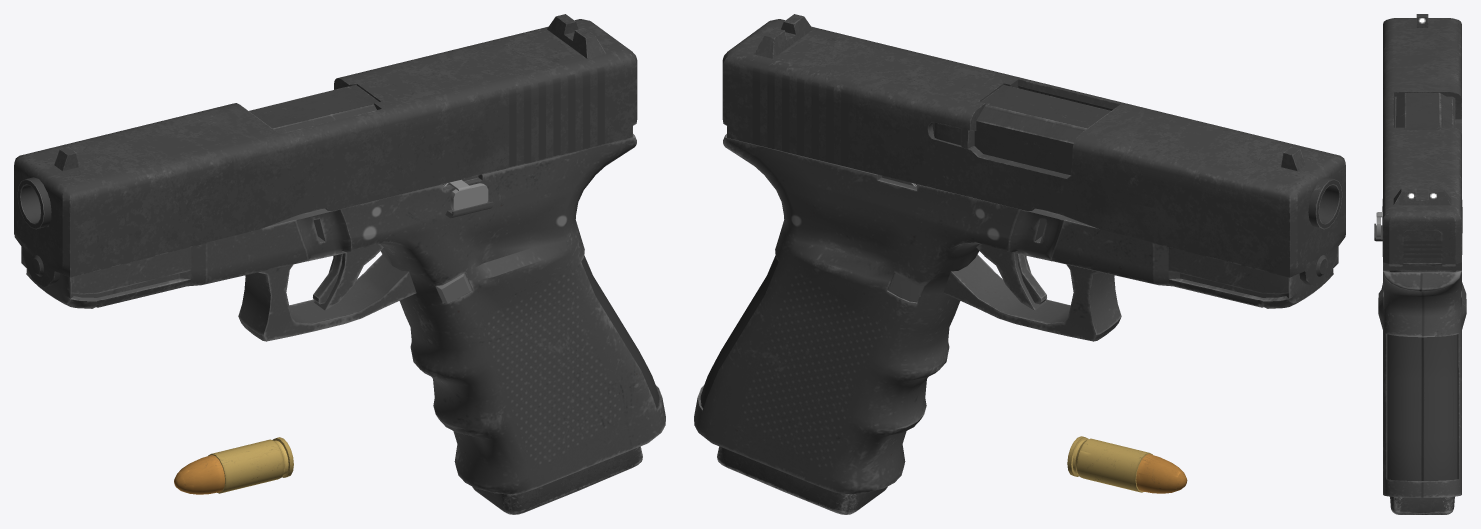
3 renders of one model, left to right at view 1: azimuth 30°, elevation 25°; view 2: azimuth 150°, elevation 25°; view 3: azimuth 270°, elevation 25°, orthographic. The views are drawn at different scales.
Visible parts, largest first — view 1: Frame, Slide, Barrel, Magazine, Shell, Trigger, Sight, Bullet, SlideLock; view 2: Frame, Slide, Barrel, Magazine, Shell, Trigger, Sight, Bullet; view 3: Frame, Slide, Barrel, Magazine, Sight, SlideLock.
Boxes of the visible parts, x1,y1,x2,y2 form: Frame: [21, 134, 665, 494]; Slide: [14, 19, 637, 287]; Barrel: [17, 85, 378, 229]; Magazine: [443, 175, 642, 514]; Shell: [208, 437, 293, 493]; Trigger: [313, 244, 383, 310]; Sight: [54, 14, 605, 170]; Bullet: [174, 455, 224, 494]; SlideLock: [449, 179, 488, 210]; Frame: [694, 134, 1338, 494]; Slide: [722, 19, 1345, 287]; Barrel: [974, 85, 1342, 229]; Magazine: [717, 175, 916, 514]; Shell: [1067, 436, 1152, 492]; Trigger: [976, 244, 1046, 310]; Sight: [754, 14, 1305, 170]; Bullet: [1136, 454, 1187, 493]; Frame: [1374, 199, 1466, 497]; Slide: [1383, 18, 1461, 270]; Barrel: [1396, 93, 1453, 129]; Magazine: [1390, 270, 1454, 514]; Sight: [1393, 14, 1451, 205]; SlideLock: [1376, 212, 1382, 236].
Bounding box in the file's own units: 1.87 × 1.31 × 0.3388.
Materials: 4 (4 with a texture image).
